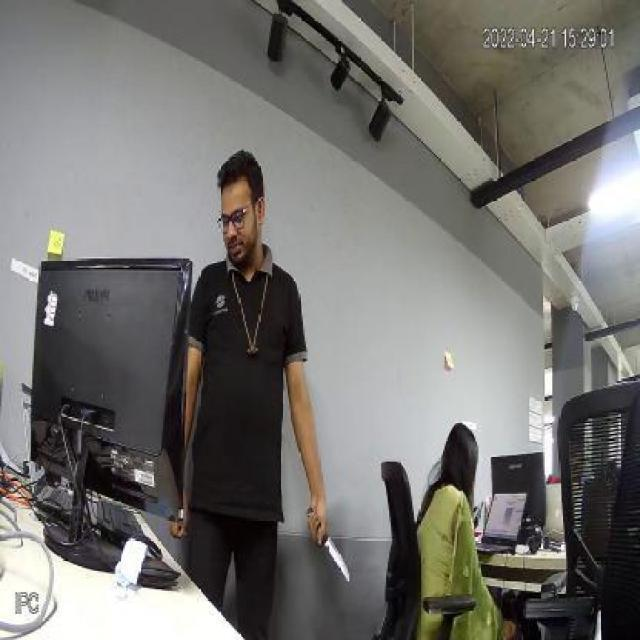-: (315, 522, 351, 591)
